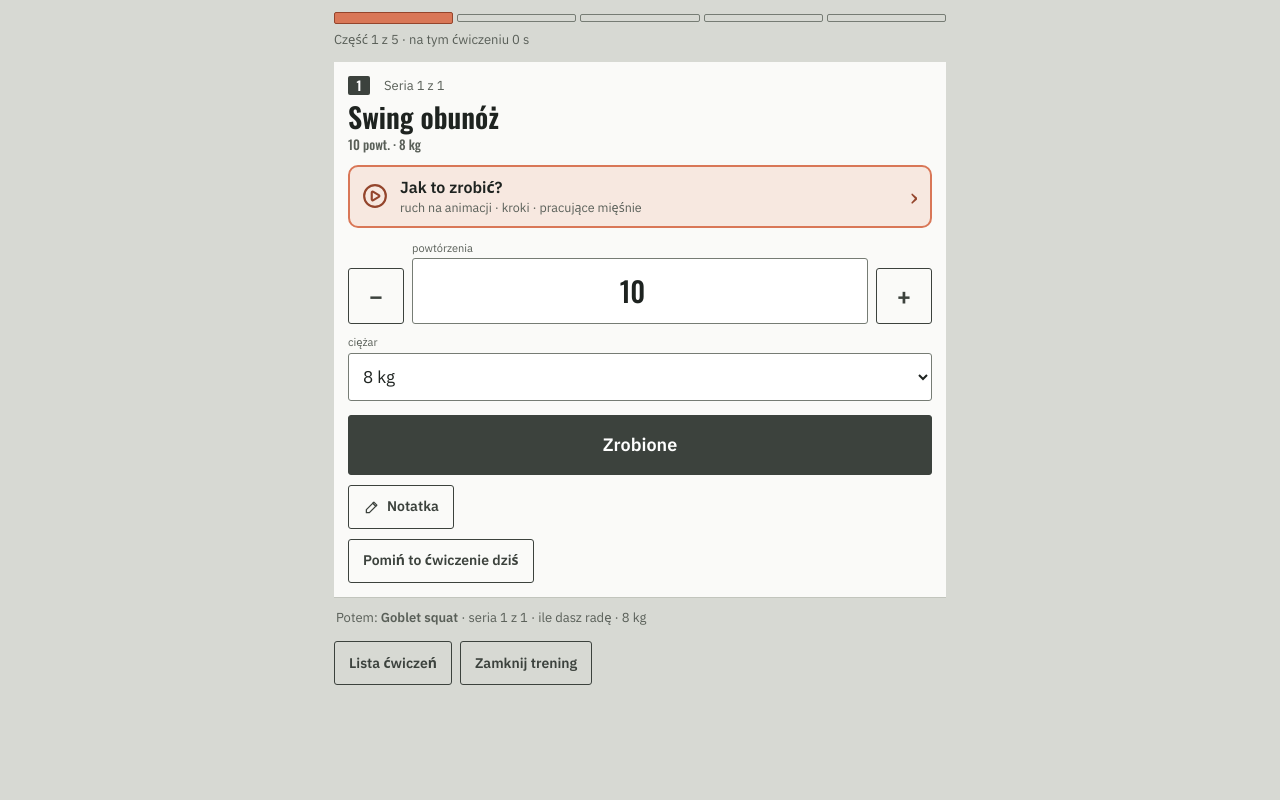
Test: „Jak to zrobić?” w treningu prowadzonym › stoi pod nazwą ćwiczenia i otwiera arkusz z ruchem, wskazówką i mięśniami
This screenshot has width=1280, height=800.
Step 1. Click the button with aria-label "Technika: Swing obunóż — animacja, mięśnie i wskazówki" → (640, 196), box top-left (348, 165), bottom-right (932, 228)
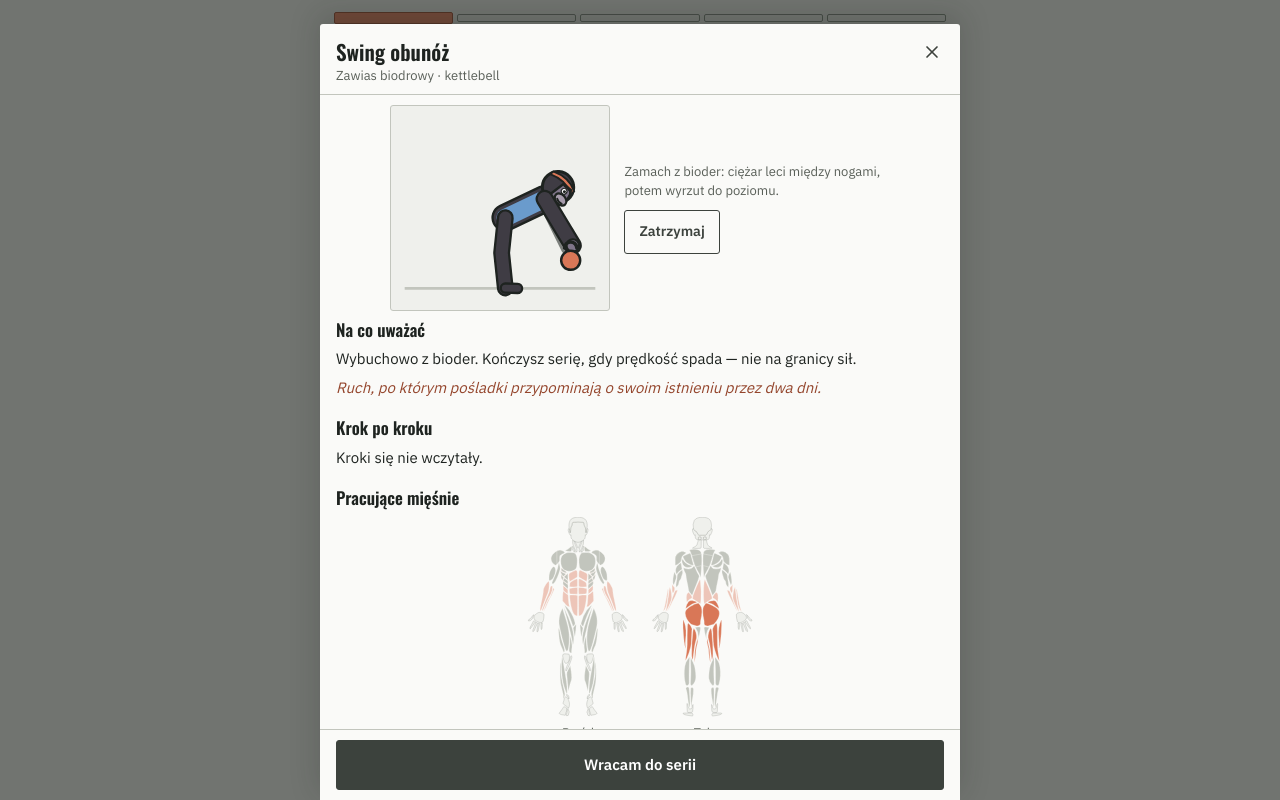
Result: the heading "Na co uważać" is shown at top-left (336, 317), bottom-right (425, 342)
Result: the heading "Pracujące mięśnie" is shown at top-left (336, 485), bottom-right (459, 510)
